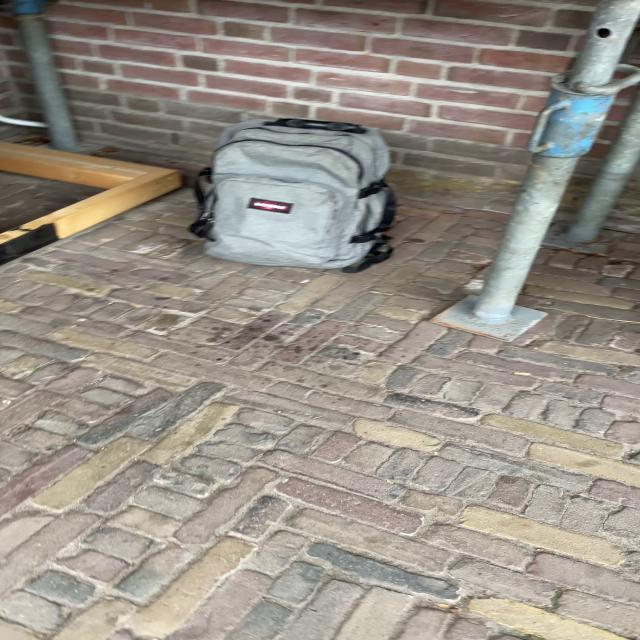backpack: (180, 110, 406, 275)
